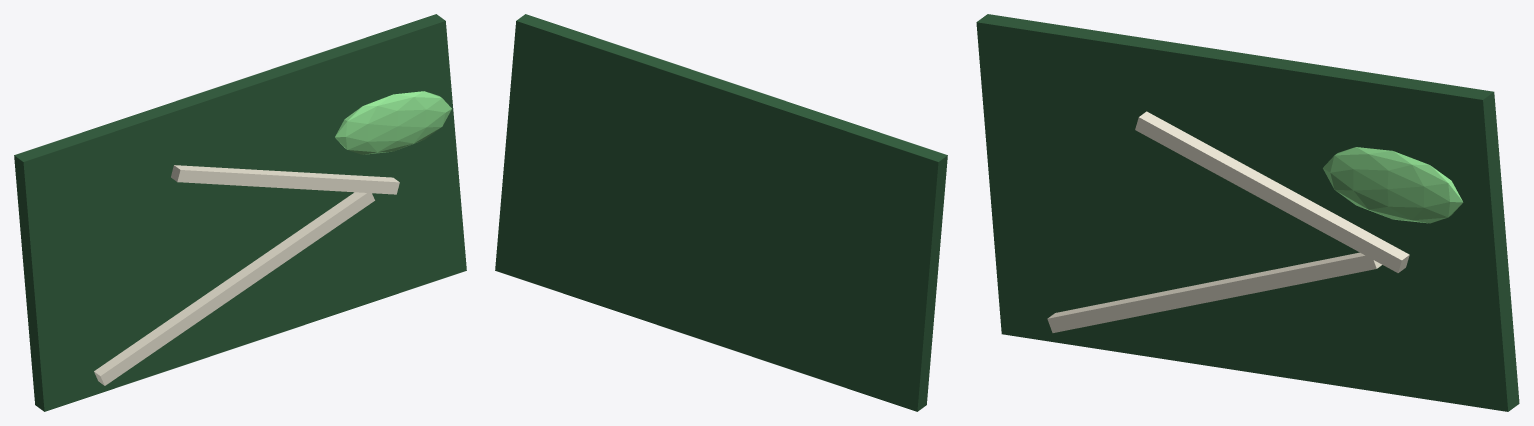
Rendered from 04_weathering_wear_overlay_4.glb.
The picture shows the model from 3 angles, left to right: view 1: azimuth 30°, elevation 25°; view 2: azimuth 150°, elevation 25°; view 3: azimuth 330°, elevation 25°; orthographic projection. The views are drawn at different scales.
Parts seen in each view (by area): view 1: wear_plate, scratch_a, rust_or_moss_spot, scratch_b; view 2: wear_plate; view 3: wear_plate, rust_or_moss_spot, scratch_b, scratch_a.
Boxes of the visible parts, bbox=[...] form: wear_plate: bbox=[14, 14, 466, 411]; scratch_a: bbox=[94, 192, 374, 385]; rust_or_moss_spot: bbox=[335, 91, 451, 154]; scratch_b: bbox=[171, 165, 399, 194]; wear_plate: bbox=[495, 14, 947, 411]; wear_plate: bbox=[976, 14, 1519, 411]; rust_or_moss_spot: bbox=[1323, 147, 1463, 223]; scratch_b: bbox=[1135, 111, 1409, 272]; scratch_a: bbox=[1047, 252, 1381, 332].
Size of the model in its own units: 1.36 by 0.8592 by 0.134.
